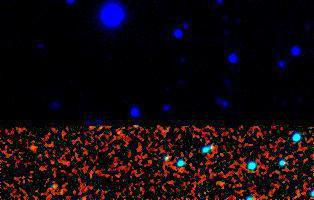star: (21, 133, 51, 163)
